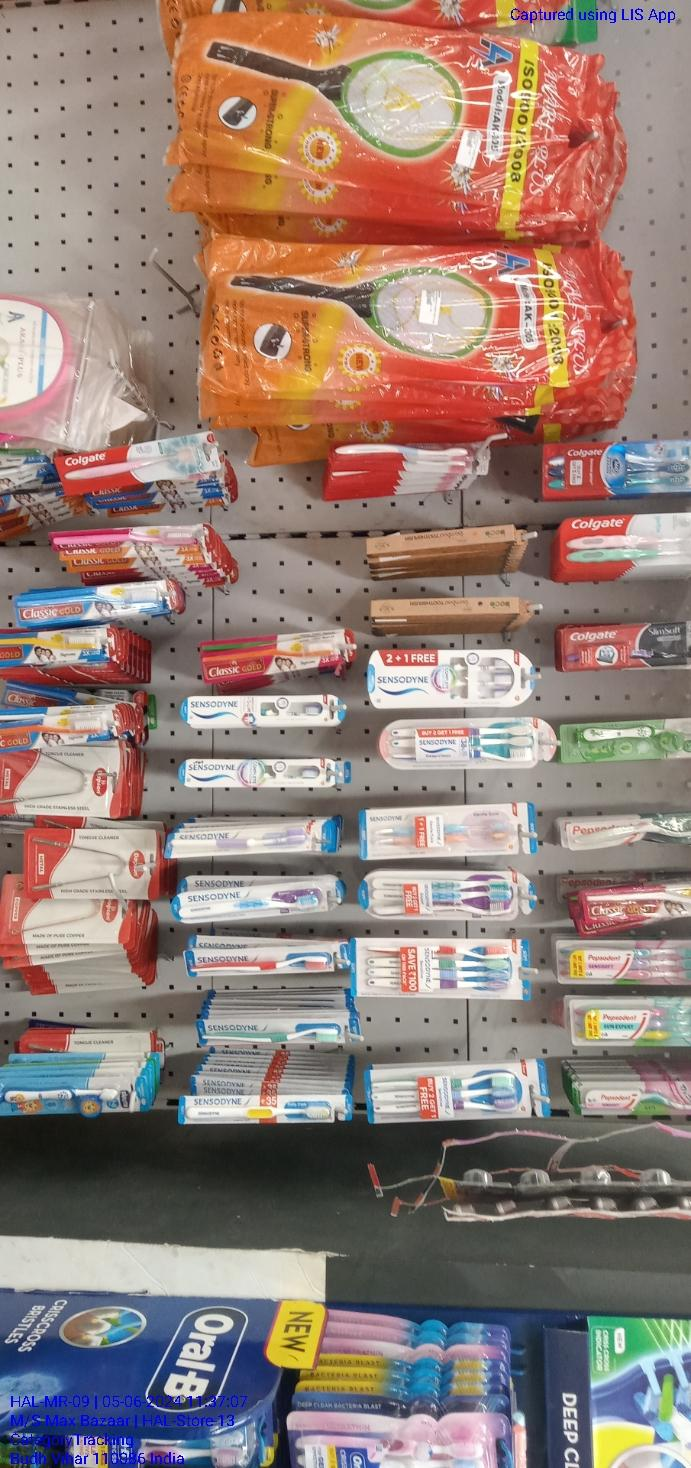11: (468, 0, 493, 256)
12: (441, 0, 463, 292)
14: (440, 344, 470, 718)
15: (500, 310, 529, 690)
4: (304, 328, 334, 687)
5: (335, 285, 363, 660)
6: (407, 329, 434, 705)
7: (377, 327, 405, 706)
soap: (292, 0, 315, 275)
